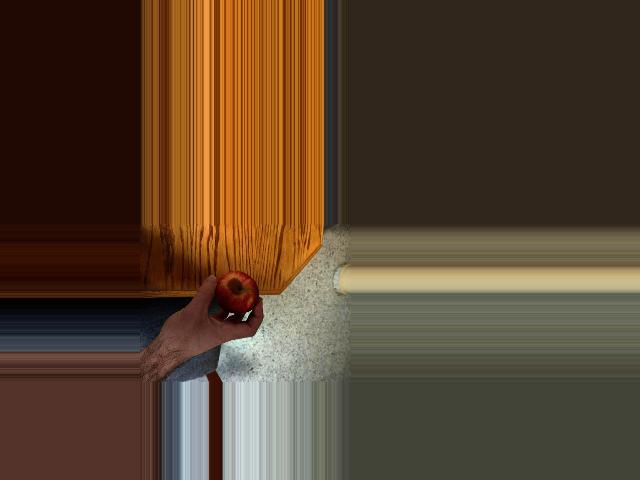apple: (208, 271, 260, 316)
